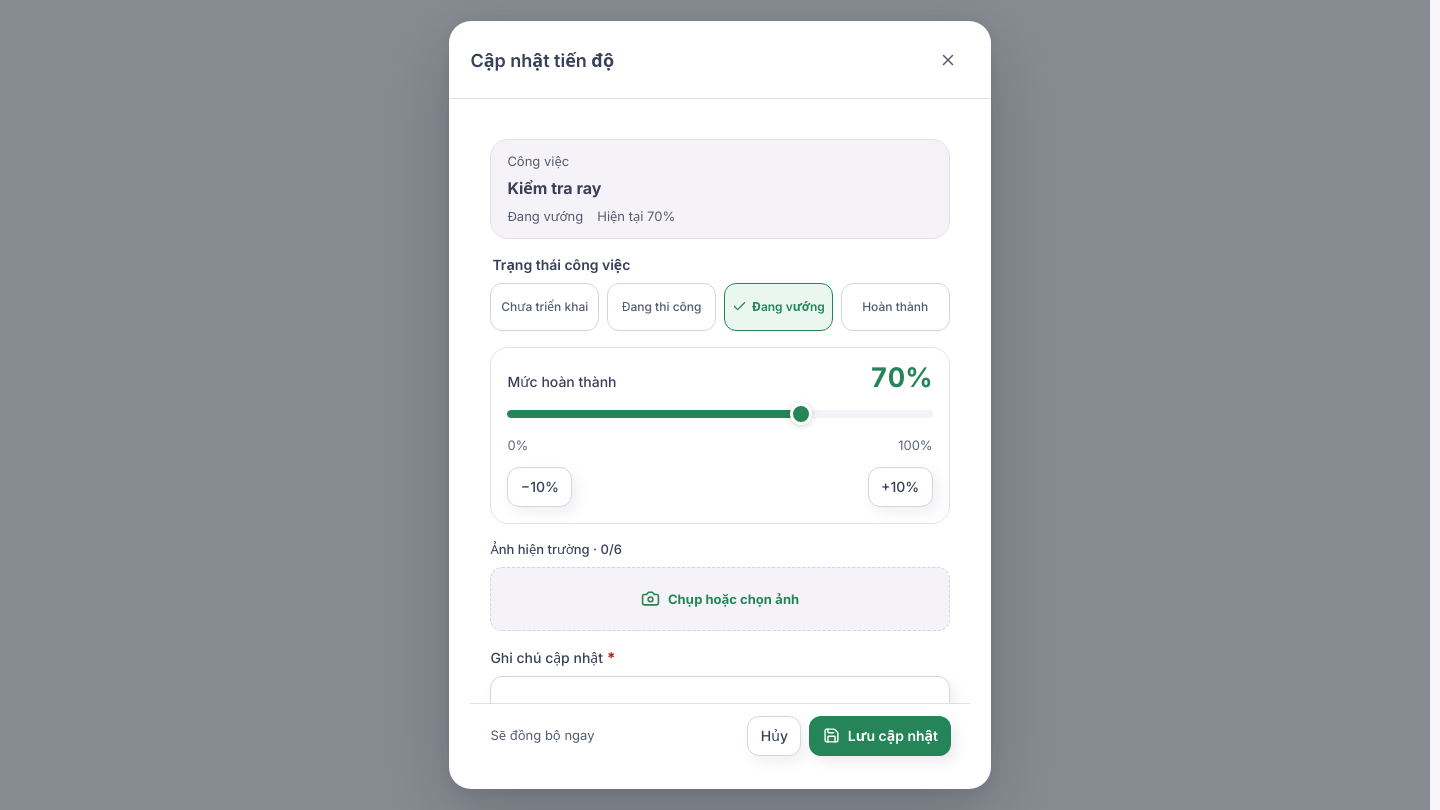
Scenario: field progress update › keeps blocked work blocked and separates completion percent from confirmation
The width and height of the screenshot is (1440, 810).
Set the slider labelled "Mức hoàn thành" to "100" at (925, 414), box [507,400,933,428]
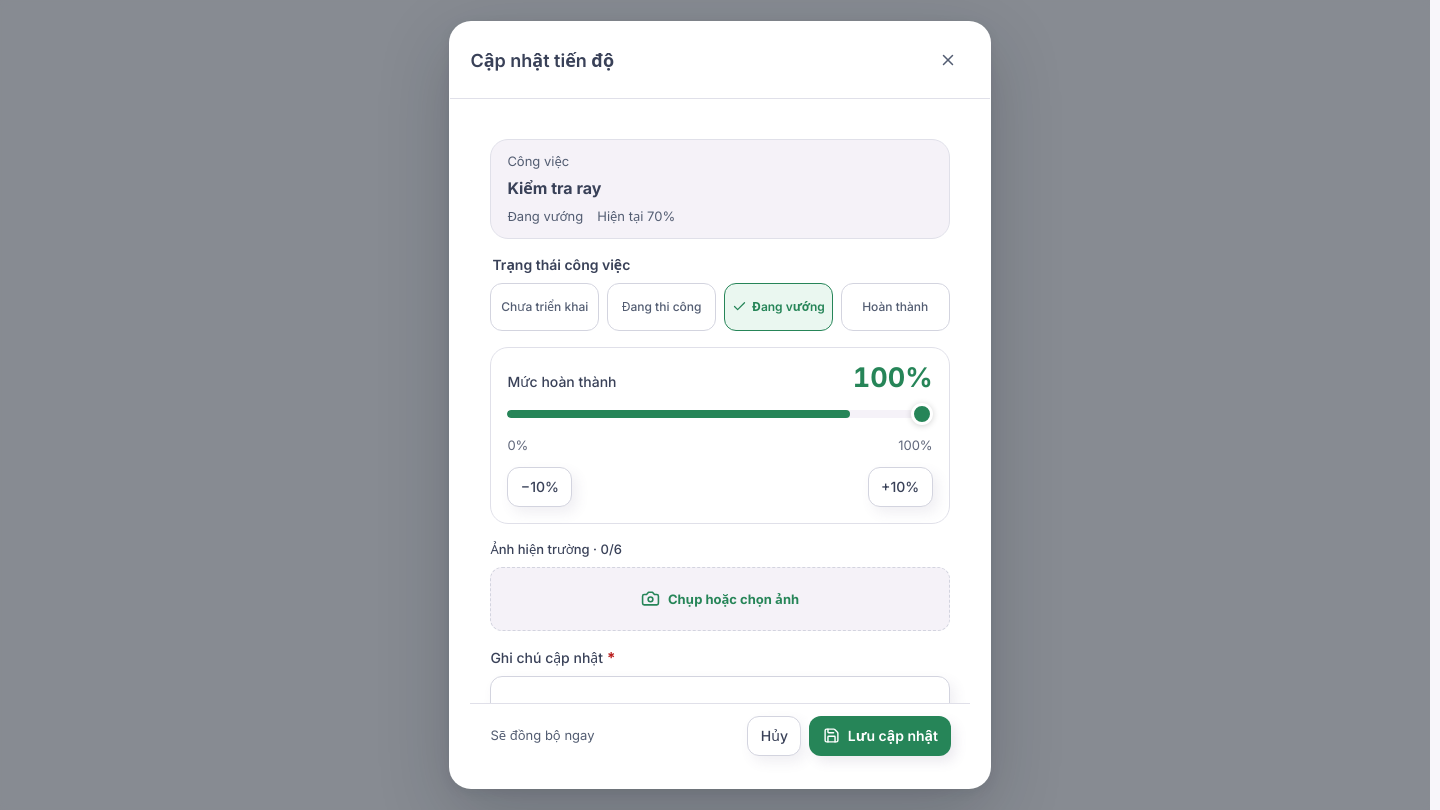
Click the button "Hoàn thành" at (895, 307), box [841,283,950,331]
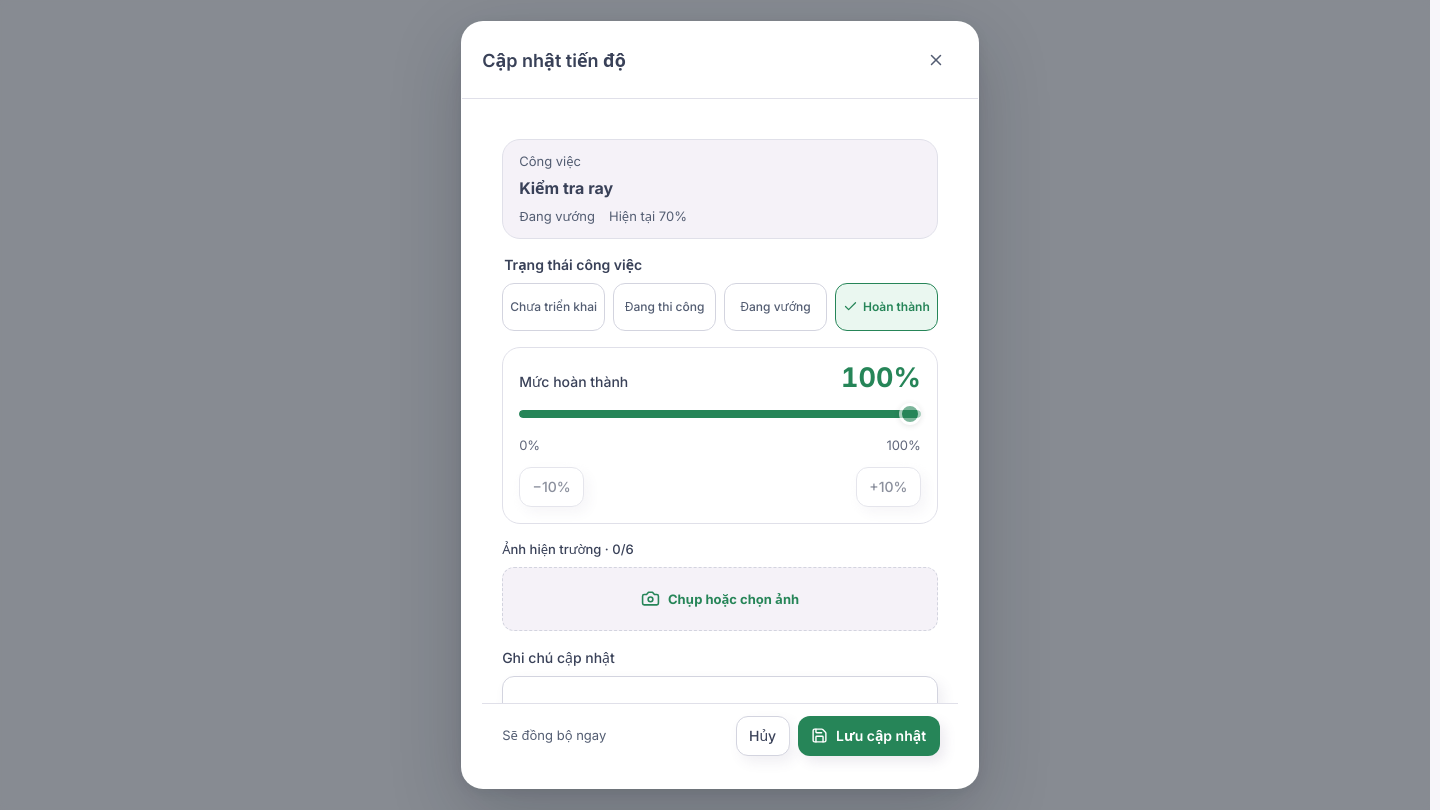
Expected: the slider labelled "Mức hoàn thành" is disabled, [519,400,921,428]
Click the button "Đang thi công" at (665, 307), box [613,283,716,331]
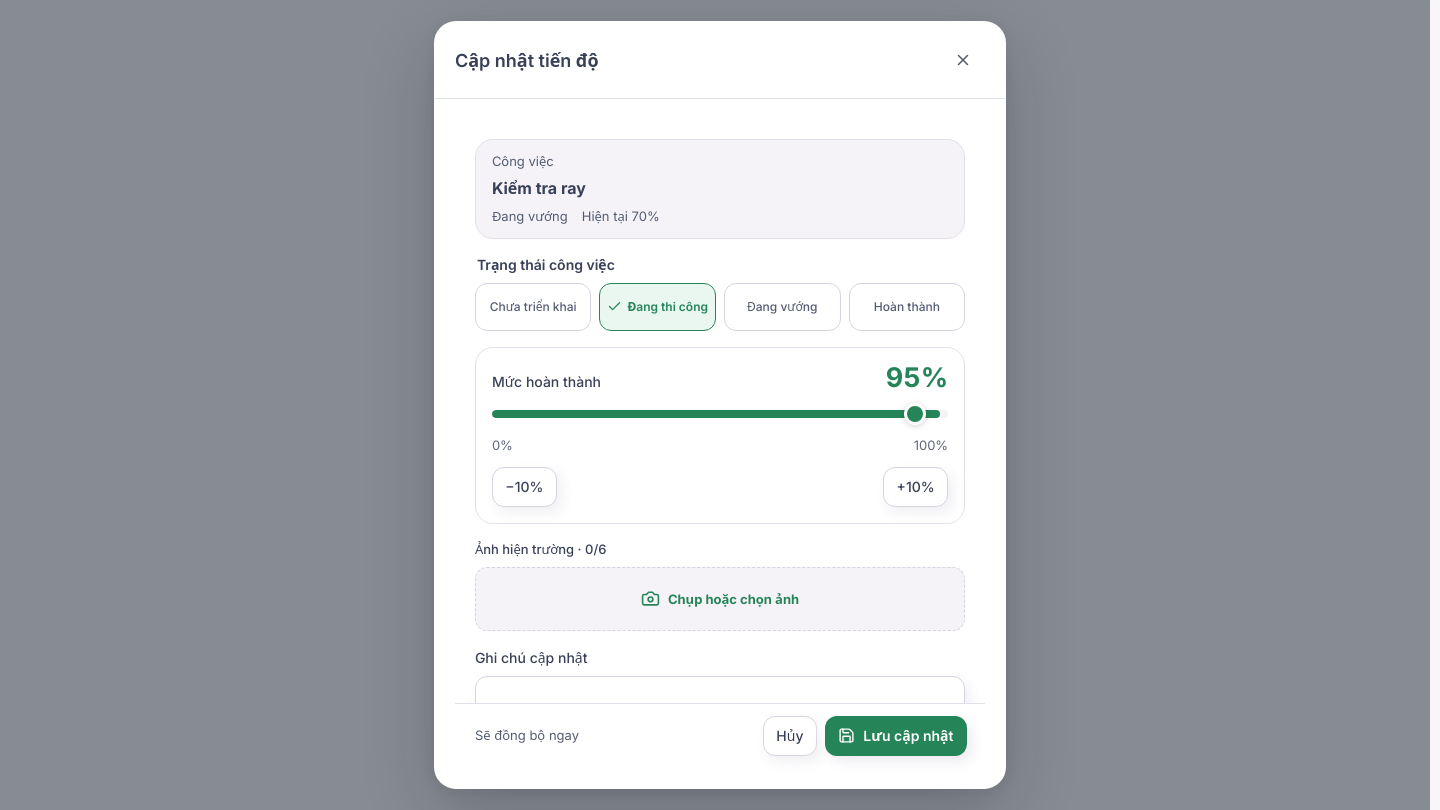
Expected: the dialog "Cập nhật tiến độ" is shown, [434,21,1006,789]
Expected: the slider labelled "Mức hoàn thành" holds "95", [492,400,948,428]
